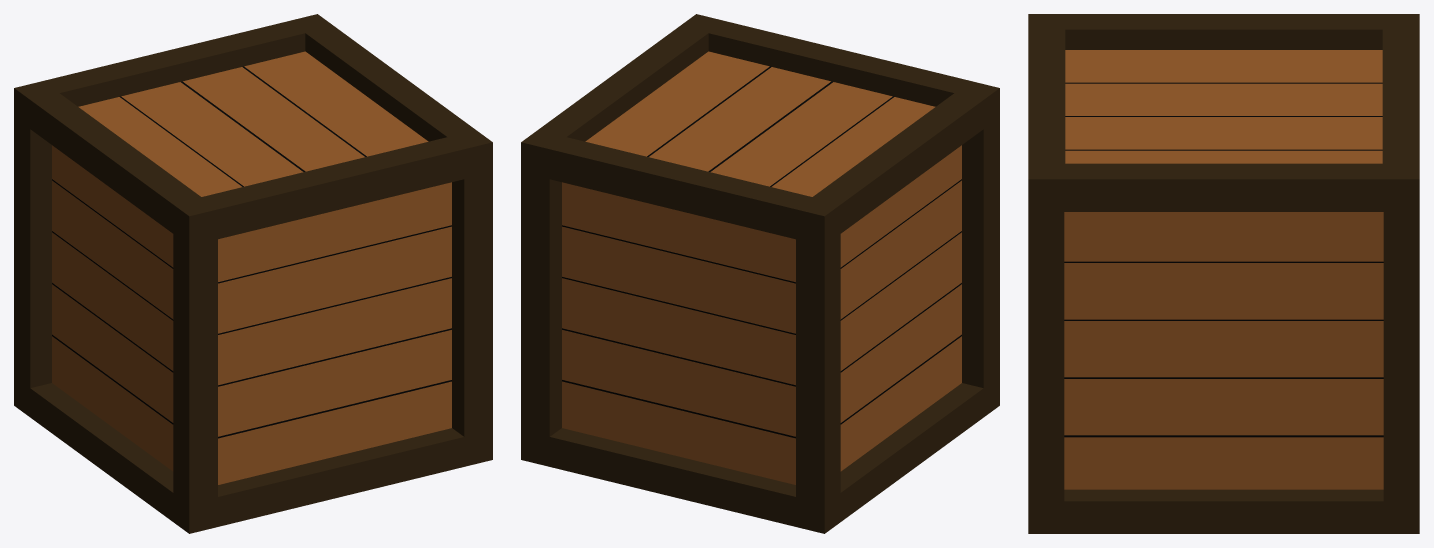
File: caisse.fbx
3 renders of one model, left to right at view 1: azimuth 30°, elevation 25°; view 2: azimuth 150°, elevation 25°; view 3: azimuth 270°, elevation 25°, orthographic. The views are drawn at different scales.
Visible parts, largest first — view 1: Cube; view 2: Cube; view 3: Cube.
Boxes of the visible parts, bbox=[...] form: Cube: bbox=[14, 14, 492, 533]; Cube: bbox=[521, 14, 999, 533]; Cube: bbox=[1028, 14, 1419, 533].
Bounding box in the file's own units: 375 × 375 × 375.
